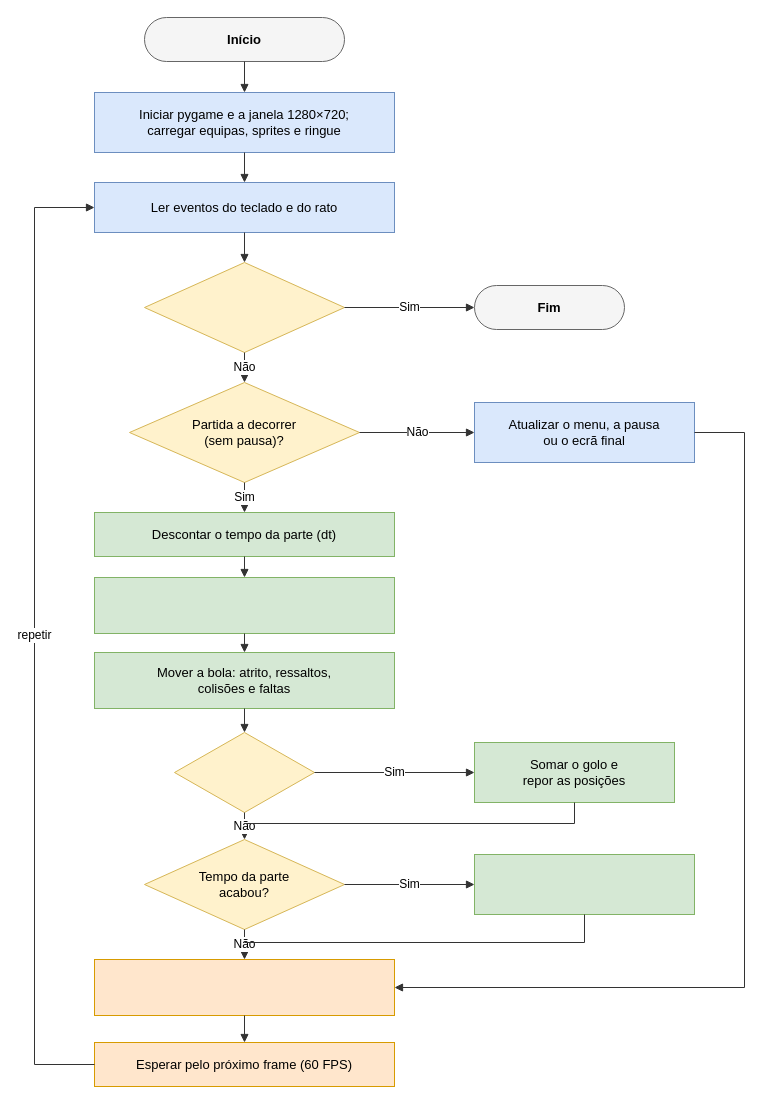
This 770x1104 diagram has some shape labels left out. The shapes that lost their labels are listed below. From the top down, each one's box as (x1, y1, x2, y2) in pixels, then its label:
(144, 262, 344, 352): Fechar janela ou «Sair»?
(94, 576, 394, 634): Mover os jogadores (humano + IA) e os guarda-redes
(174, 732, 314, 812): Golo?
(474, 854, 694, 914): 1.ª parte → intervalo 2.ª parte → fim de jogo
(94, 958, 394, 1016): Desenhar: ringue em perspetiva, jogadores, bola e HUD
